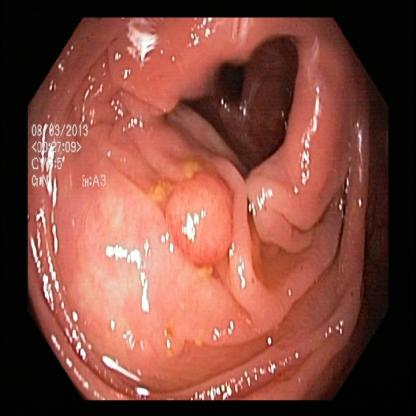Labels: (27, 119, 119, 198)
Polyps: (166, 174, 249, 272)
